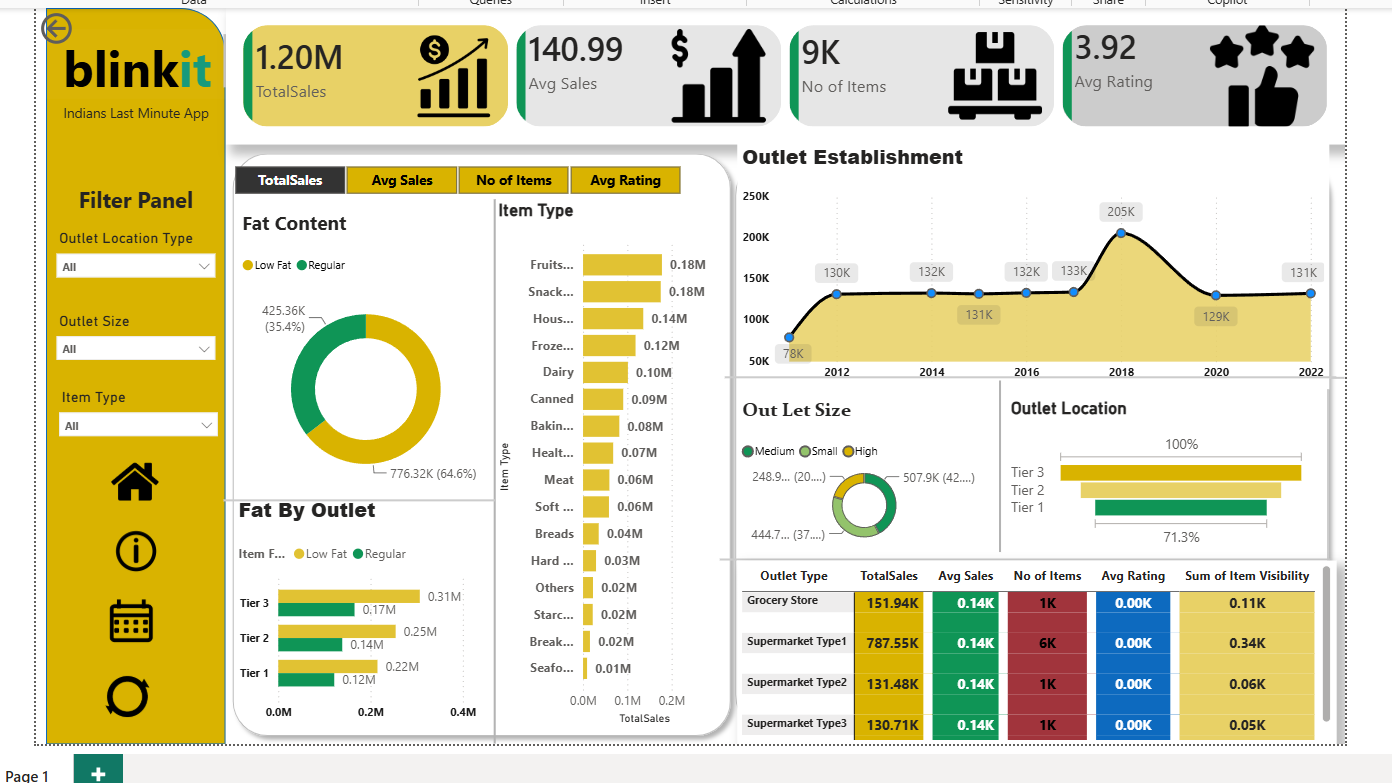

This screenshot's page, from the dashboard's own definition file:
{"tool":"powerbi","page":{"name":"Page 1","canvas":[1280,720],"ordinal":0},"visuals":[{"type":"shape","box":[9.6,0,175.6,720.4],"z":0},{"type":"textbox","box":[9.5,88,175.9,44.7],"z":1000},{"type":"textbox","box":[9.5,20.3,186.8,67.7],"z":2000},{"type":"cardVisual","fields":{"Data":["BlinkIT Grocery Data.TotalSales","BlinkIT Grocery Data.Avg Sales","BlinkIT Grocery Data.No of Items","BlinkIT Grocery Data.Avg Rating"]},"box":[185.4,0,1094.9,134],"z":3000},{"type":"shape","box":[182.9,132.8,505.3,588],"z":4000},{"type":"donutChart","title":"Fat Content","fields":{"Y":["BlinkIT Grocery Data.TotalSales"],"Category":["BlinkIT Grocery Data.Item Fat Content"]},"box":[196.4,196.4,252,289.9],"z":5000},{"type":"slicer","fields":{"Values":["METRICS.METRICS"]},"box":[169.3,147.7,485.8,39.8],"z":6000},{"type":"clusteredBarChart","title":" Fat By Outlet","fields":{"Y":["BlinkIT Grocery Data.TotalSales"],"Category":["BlinkIT Grocery Data.Outlet Location Type"],"Series":["BlinkIT Grocery Data.Item Fat Content"]},"box":[193.7,476.9,242.5,229],"z":7000},{"type":"shape","box":[689.6,375.3,252.5,12.3],"z":8000},{"type":"shape","box":[436.2,187,24.4,532.4],"z":9000},{"type":"barChart","title":" Item Type","fields":{"Y":["BlinkIT Grocery Data.TotalSales"],"Category":["BlinkIT Grocery Data.Item Type"]},"box":[448,186.8,227.6,518.9],"z":10000},{"type":"shape","box":[675.3,134,598.2,586],"z":10001},{"type":"shape","box":[689.6,357.7,590.7,9.5],"z":10004},{"type":"shape","box":[182.9,476.9,265.5,9.5],"z":10005},{"type":"donutChart","title":"Out Let Size","fields":{"Y":["BlinkIT Grocery Data.TotalSales"],"Category":["BlinkIT Grocery Data.Outlet Size","BlinkIT Grocery Data.Item Fat Content"]},"box":[686.2,381.6,249,150.2],"z":10006},{"type":"funnel","title":"Outlet Location ","fields":{"Category":["BlinkIT Grocery Data.Outlet Location Type"],"Y":["Sum(BlinkIT Grocery Data.Sales)"]},"box":[948.7,381.6,299.1,150.2],"z":10007},{"type":"actionButton","box":[0,0,100,40],"z":10011},{"type":"shape","box":[669.3,531.1,597.5,17.6],"z":10013},{"type":"pivotTable","fields":{"Rows":["BlinkIT Grocery Data.Outlet Type"],"Values":["BlinkIT Grocery Data.TotalSales","BlinkIT Grocery Data.Avg Sales","BlinkIT Grocery Data.No of Items","BlinkIT Grocery Data.Avg Rating","Sum(BlinkIT Grocery Data.Item Visibility)"]},"box":[686.2,540,586,180],"z":10014},{"type":"lineChart","title":"Outlet Establishment","fields":{"Category":["BlinkIT Grocery Data.Outlet Establishment Year"],"Y":["BlinkIT Grocery Data.TotalSales"]},"box":[686.2,132.6,579.2,240.9],"z":10015},{"type":"shape","box":[674,355.9,598.2,10.8],"z":10016},{"type":"shape","box":[940.6,364.1,5.4,167.8],"z":10017},{"type":"slicer","fields":{"Values":["BlinkIT Grocery Data.Outlet Size"]},"box":[9.5,292.3,175.9,67.7],"z":10019},{"type":"slicer","fields":{"Values":["BlinkIT Grocery Data.Item Type"]},"box":[12.2,366.8,175.9,67.7],"z":10020},{"type":"slicer","fields":{"Values":["BlinkIT Grocery Data.Outlet Location Type"]},"box":[9.5,211.1,175.9,67.7],"z":10021},{"type":"textbox","box":[9.5,167.8,175.9,43.3],"z":10022},{"type":"image","box":[62.3,439.8,69,46],"z":10023},{"type":"image","box":[58.2,500.7,78.5,62.3],"z":10024},{"type":"image","box":[50.1,640.1,78.5,67.7],"z":10025},{"type":"image","box":[58.2,563,69,77.1],"z":10026}]}

Visuals, with their boxes on the page's 1280x720 design canvas (x1, y1, x2, y2). These are canvas units, not pixel positions in the 1392x783 screenshot, which may show the page scaled, cropped or inside an application window:
shape: rect(10, 0, 185, 720)
textbox: rect(10, 88, 185, 133)
textbox: rect(10, 20, 196, 88)
cardVisual - BlinkIT Grocery Data.TotalSales x BlinkIT Grocery Data.Avg Sales: rect(185, 0, 1280, 134)
shape: rect(183, 133, 688, 721)
"Fat Content" donutChart: rect(196, 196, 448, 486)
slicer - METRICS.METRICS: rect(169, 148, 655, 188)
" Fat By Outlet" clusteredBarChart: rect(194, 477, 436, 706)
shape: rect(690, 375, 942, 388)
shape: rect(436, 187, 461, 719)
" Item Type" barChart: rect(448, 187, 676, 706)
shape: rect(675, 134, 1274, 720)
shape: rect(690, 358, 1280, 367)
shape: rect(183, 477, 448, 486)
"Out Let Size" donutChart: rect(686, 382, 935, 532)
"Outlet Location " funnel: rect(949, 382, 1248, 532)
actionButton: rect(0, 0, 100, 40)
shape: rect(669, 531, 1267, 549)
pivotTable - BlinkIT Grocery Data.Outlet Type x BlinkIT Grocery Data.TotalSales: rect(686, 540, 1272, 720)
"Outlet Establishment" lineChart: rect(686, 133, 1265, 374)
shape: rect(674, 356, 1272, 367)
shape: rect(941, 364, 946, 532)
slicer - BlinkIT Grocery Data.Outlet Size: rect(10, 292, 185, 360)
slicer - BlinkIT Grocery Data.Item Type: rect(12, 367, 188, 434)
slicer - BlinkIT Grocery Data.Outlet Location Type: rect(10, 211, 185, 279)
textbox: rect(10, 168, 185, 211)
image: rect(62, 440, 131, 486)
image: rect(58, 501, 137, 563)
image: rect(50, 640, 129, 708)
image: rect(58, 563, 127, 640)
